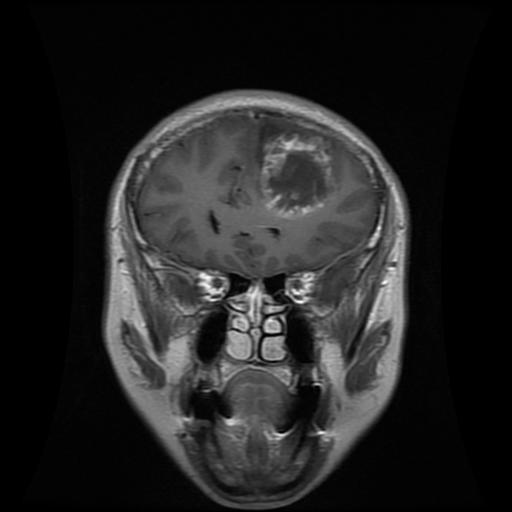Gliomia_tumour: (256, 123, 340, 219)
